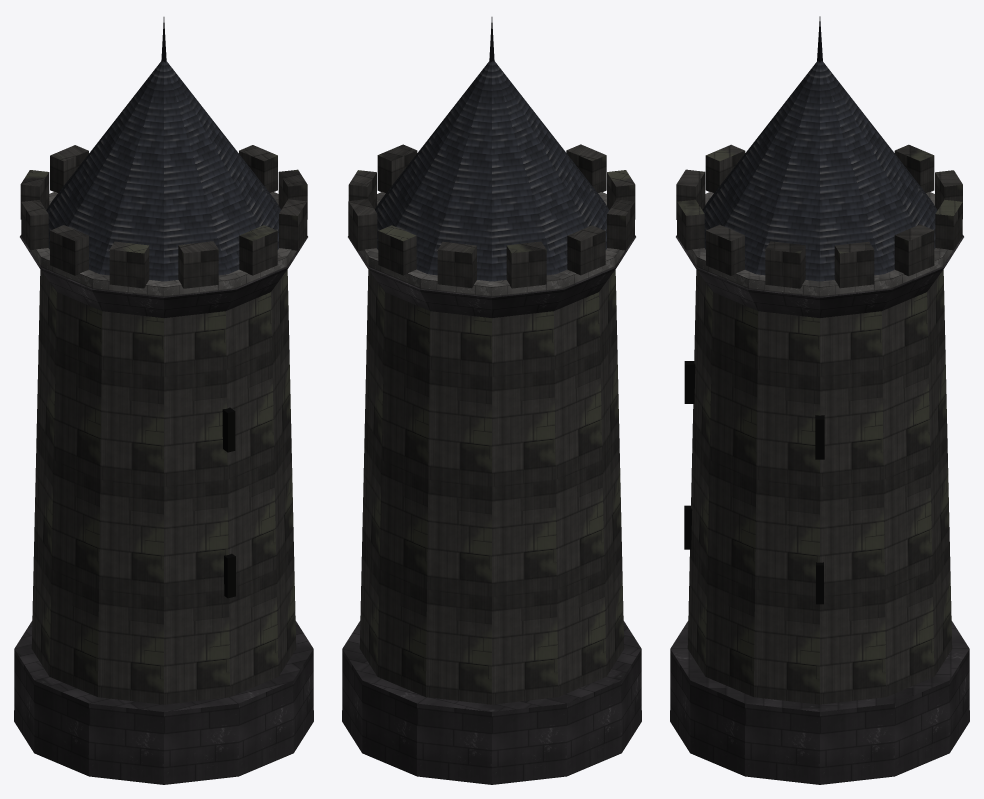
The model's file is TorreRedonda.gltf.
3 views of the same model, side by side, from view 1: azimuth 30°, elevation 25°; view 2: azimuth 150°, elevation 25°; view 3: azimuth 270°, elevation 25° (orthographic).
Parts seen in each view (by area): view 1: TorreRedonda; view 2: TorreRedonda; view 3: TorreRedonda.
Boxes of the visible parts, box(x1,y1,x2,y2) form: TorreRedonda: box(14, 17, 313, 784); TorreRedonda: box(342, 17, 641, 784); TorreRedonda: box(670, 16, 969, 784).
Size of the model in its own units: 11.21 by 29.21 by 11.21.
6 materials, 4 textured.
